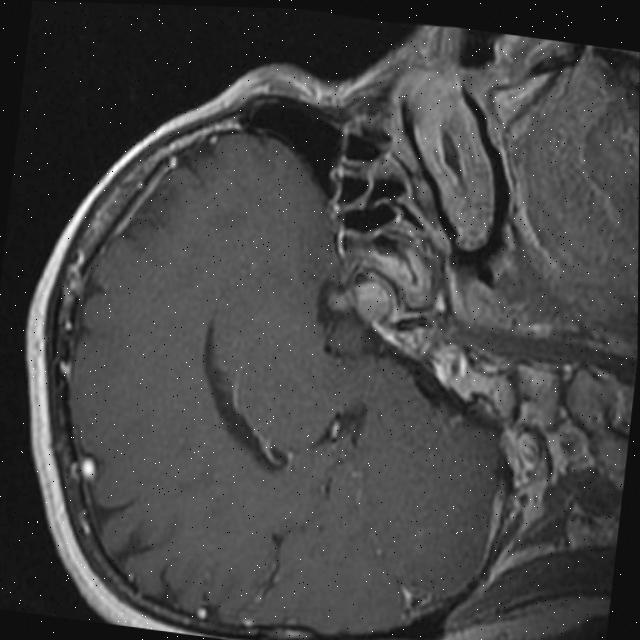Pituitary: (324, 276, 393, 328)
